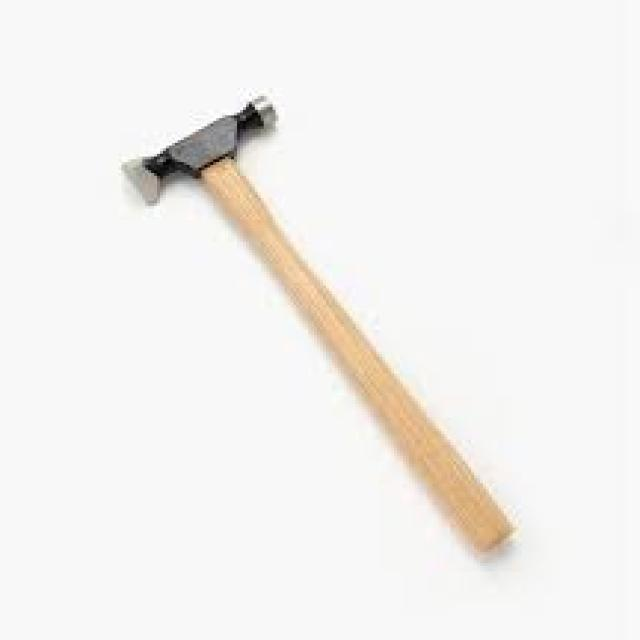Palu: (113, 87, 537, 578)
